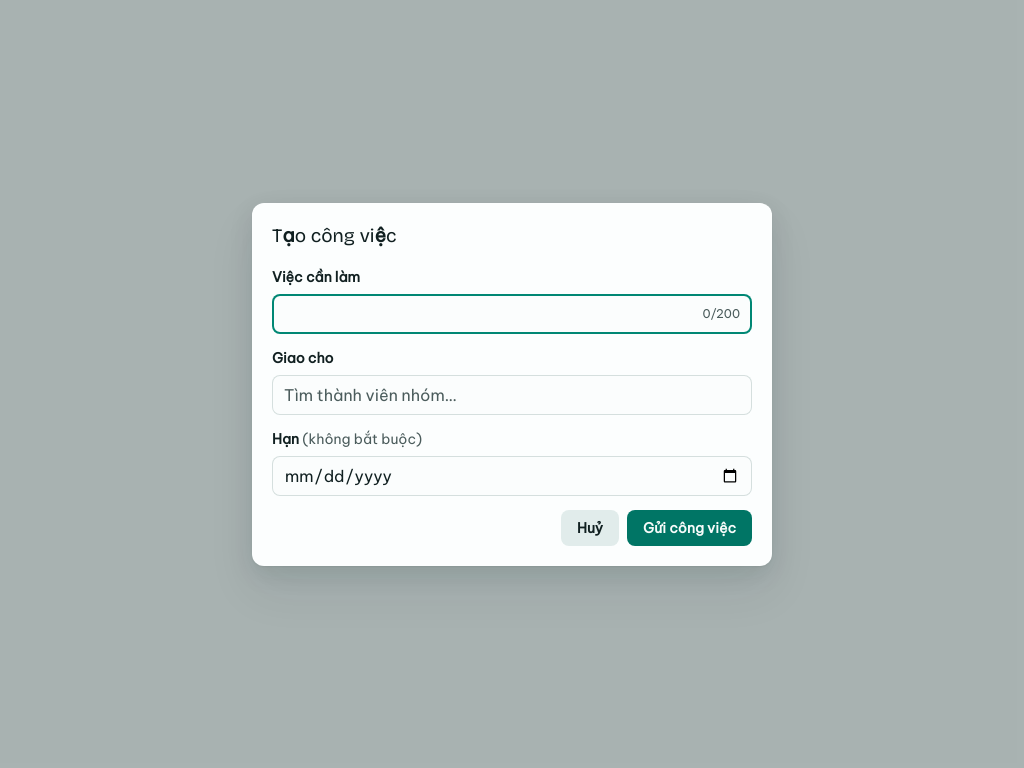
Test: TaskDialog › needs a title
The width and height of the screenshot is (1024, 768).
Click the button "Gửi công việc". click: (690, 528)
box: [627,510,752,546]
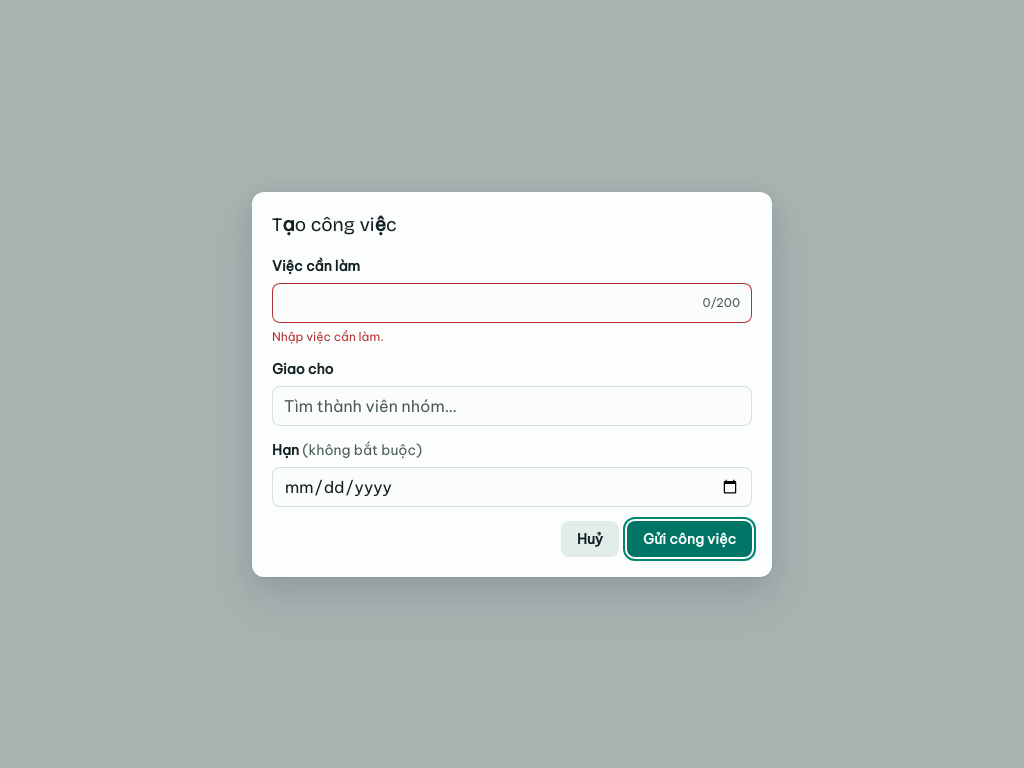
Now the text "Nhập việc cần làm." is shown, box [272,328,384,344]
